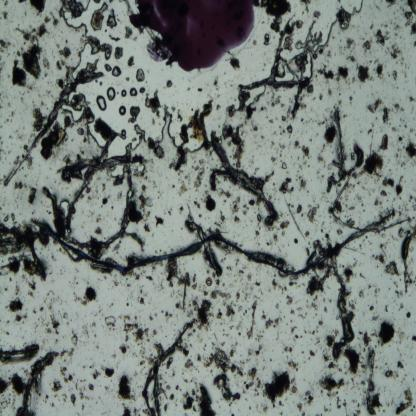Air bubble: (160, 105, 178, 152), (58, 198, 70, 218), (96, 94, 107, 112), (106, 86, 117, 102), (111, 66, 123, 78), (129, 86, 138, 96), (119, 105, 126, 116), (121, 88, 127, 97)
Background material: (0, 211, 52, 278), (327, 142, 365, 228), (54, 150, 146, 175), (38, 114, 72, 162), (187, 101, 215, 148), (120, 315, 150, 357), (260, 369, 290, 410), (376, 196, 416, 226), (204, 346, 243, 376), (168, 123, 191, 173), (221, 123, 245, 169), (259, 1, 294, 32), (401, 225, 416, 295), (128, 184, 154, 224), (318, 374, 348, 408), (93, 116, 128, 144), (16, 45, 43, 79), (192, 378, 216, 415), (226, 90, 256, 118), (190, 298, 216, 330), (214, 373, 240, 404), (362, 151, 386, 182), (0, 369, 27, 396), (340, 346, 362, 379), (84, 34, 112, 59), (375, 316, 397, 347), (242, 364, 262, 398), (117, 372, 140, 401), (176, 272, 192, 312), (321, 334, 338, 370), (310, 232, 336, 254), (85, 184, 111, 206), (10, 57, 28, 88), (394, 388, 414, 415), (236, 268, 254, 298), (143, 89, 162, 117), (90, 1, 107, 32), (60, 333, 78, 362), (58, 0, 84, 20), (230, 194, 257, 213), (305, 273, 327, 296), (335, 4, 353, 32), (72, 286, 98, 305), (193, 155, 207, 190), (14, 27, 40, 45), (354, 61, 374, 83), (394, 134, 406, 170), (42, 310, 60, 334), (29, 106, 46, 131), (247, 298, 257, 340), (146, 136, 166, 157), (167, 258, 181, 288), (404, 0, 415, 36), (382, 362, 404, 380), (372, 242, 389, 265), (325, 172, 341, 195), (372, 26, 390, 46), (386, 44, 404, 64), (70, 92, 88, 112), (314, 64, 334, 81), (75, 383, 88, 409), (36, 14, 50, 38), (322, 122, 337, 144), (183, 391, 198, 412), (271, 141, 286, 162), (261, 312, 282, 327), (304, 296, 321, 314), (7, 297, 24, 314), (364, 97, 382, 113), (118, 403, 142, 415), (61, 363, 76, 382), (403, 140, 416, 161), (42, 291, 59, 307), (384, 262, 401, 278), (272, 277, 288, 294), (126, 106, 141, 124), (173, 341, 191, 356), (210, 288, 232, 300), (29, 0, 46, 15), (228, 54, 243, 71), (379, 105, 391, 126), (280, 177, 294, 195), (26, 278, 37, 300), (103, 314, 118, 330), (296, 173, 308, 193), (246, 344, 263, 358), (203, 193, 216, 211), (107, 6, 117, 29), (225, 301, 237, 319), (306, 206, 321, 220), (310, 320, 324, 335), (374, 56, 384, 77), (334, 66, 349, 80), (58, 45, 73, 59), (316, 151, 327, 170), (379, 133, 390, 152), (27, 186, 38, 205), (269, 92, 282, 108), (177, 179, 188, 197), (334, 200, 347, 215), (153, 340, 165, 356), (216, 188, 233, 199), (361, 332, 372, 349), (50, 379, 63, 393), (393, 21, 403, 39), (113, 45, 124, 61), (303, 389, 314, 405), (396, 175, 404, 197), (267, 233, 279, 247), (0, 36, 12, 50), (345, 36, 356, 51), (135, 68, 146, 83), (290, 376, 299, 394), (281, 106, 291, 122), (41, 54, 51, 70), (49, 10, 59, 26), (382, 176, 395, 188), (278, 218, 292, 229), (362, 40, 373, 54), (286, 358, 300, 369), (107, 32, 121, 43), (12, 180, 26, 191), (384, 0, 399, 10), (185, 356, 195, 371), (290, 325, 300, 340), (213, 74, 221, 92), (300, 0, 312, 12), (90, 367, 102, 379), (155, 214, 165, 228), (82, 323, 90, 340), (56, 59, 67, 71), (393, 100, 404, 112), (104, 366, 116, 377), (102, 62, 113, 74), (284, 293, 294, 306), (57, 75, 66, 89), (283, 124, 294, 135), (297, 402, 307, 414), (263, 32, 271, 47), (68, 392, 77, 405), (124, 27, 133, 40), (234, 291, 242, 305), (13, 313, 29, 320), (13, 282, 21, 296), (302, 145, 310, 159), (394, 289, 404, 300), (283, 344, 294, 354), (379, 188, 389, 199), (164, 78, 174, 89), (294, 204, 304, 215), (249, 122, 260, 132), (142, 222, 151, 234), (166, 357, 174, 370), (86, 382, 96, 392), (162, 309, 172, 319), (293, 139, 302, 150), (26, 156, 33, 170), (358, 288, 366, 300), (127, 54, 135, 66), (368, 302, 376, 314), (344, 54, 356, 62), (391, 69, 399, 81), (326, 86, 334, 98), (312, 10, 322, 19), (177, 107, 183, 122), (193, 199, 202, 209), (138, 294, 146, 305), (162, 402, 170, 413), (256, 212, 264, 223), (178, 204, 185, 216), (407, 94, 416, 103), (374, 199, 383, 207), (308, 349, 316, 358), (145, 273, 154, 281), (410, 333, 416, 343), (139, 86, 146, 94), (260, 105, 267, 113), (233, 214, 240, 222), (405, 310, 411, 319), (281, 162, 287, 171), (2, 11, 8, 20), (254, 281, 260, 288), (197, 86, 203, 92), (294, 238, 300, 244), (3, 0, 8, 7), (319, 92, 323, 100), (349, 96, 353, 104), (17, 0, 27, 3), (268, 119, 274, 124), (304, 230, 308, 237), (93, 0, 100, 4)
Cellulose filter fibre: (4, 63, 97, 186), (212, 137, 280, 227), (142, 322, 193, 414), (66, 136, 110, 227), (329, 255, 356, 357), (184, 213, 224, 276), (291, 19, 315, 117), (22, 351, 57, 415), (270, 14, 296, 82), (64, 231, 144, 251), (118, 146, 133, 234), (240, 76, 312, 92), (332, 105, 347, 178), (366, 350, 376, 414), (0, 345, 37, 360)
Cotton: (35, 222, 378, 278)
Diatom: (206, 278, 212, 287)
Pen: (130, 1, 257, 72)
